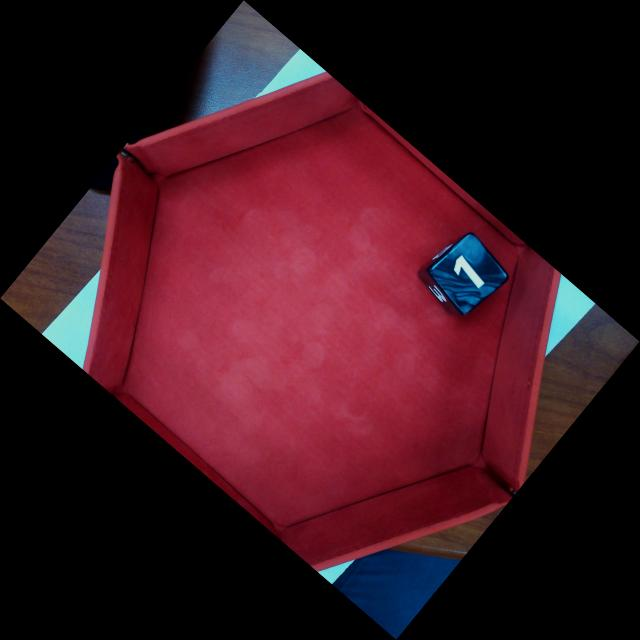dice: (425, 230, 512, 318)
